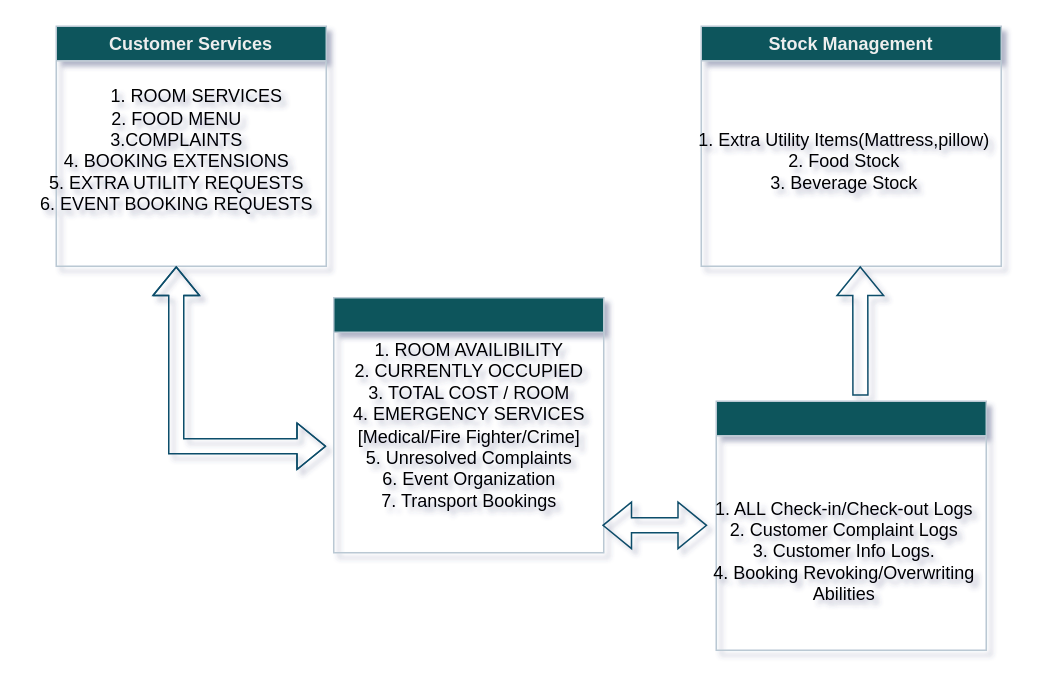
This 1037x686 diagram has some shape labels left out. Here are the shapes that lost their labels. From the top down, the box of each, then its label:
(332, 296, 604, 553): Receptionist
(715, 400, 986, 650): Administrator
